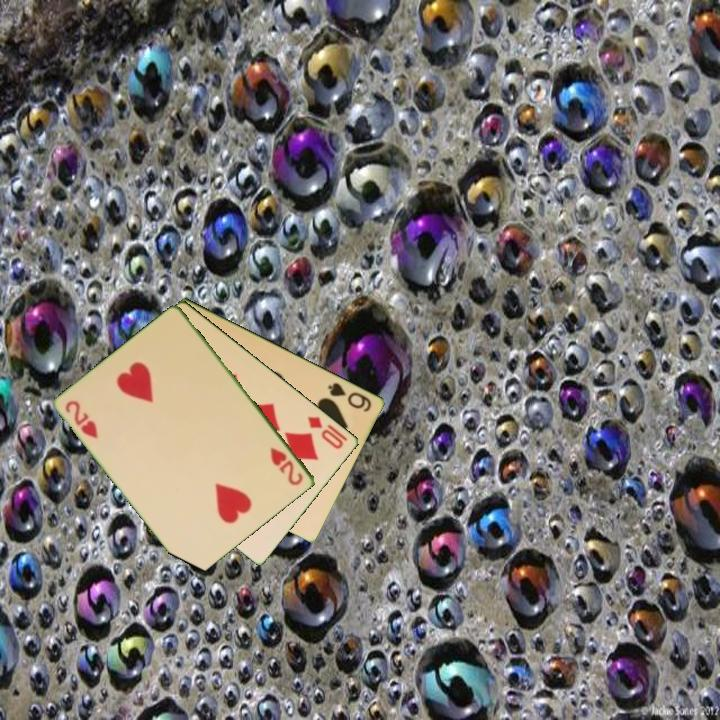10d: (304, 412, 351, 452)
2h: (267, 443, 306, 488), (62, 397, 101, 442)
6s: (325, 379, 375, 415)
